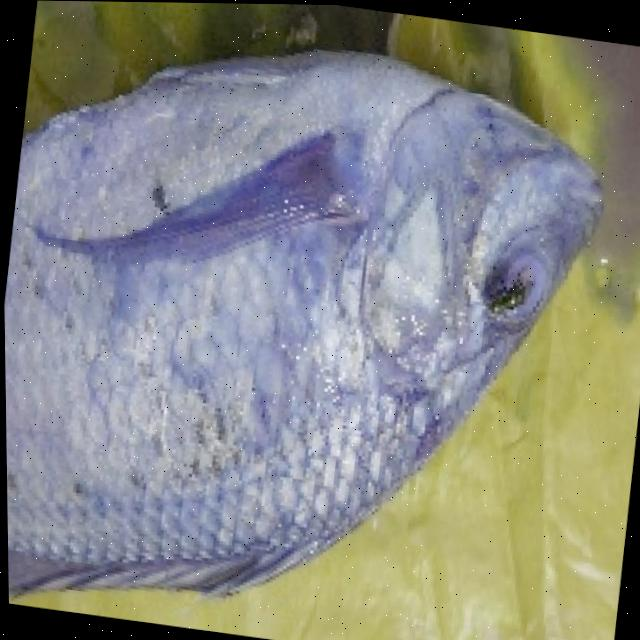Non-Fresh: (1, 45, 453, 533), (444, 224, 564, 335)
